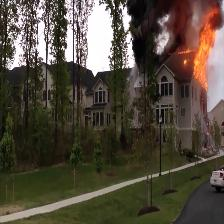fire: (196, 20, 219, 77)
smoke: (131, 1, 190, 60)
